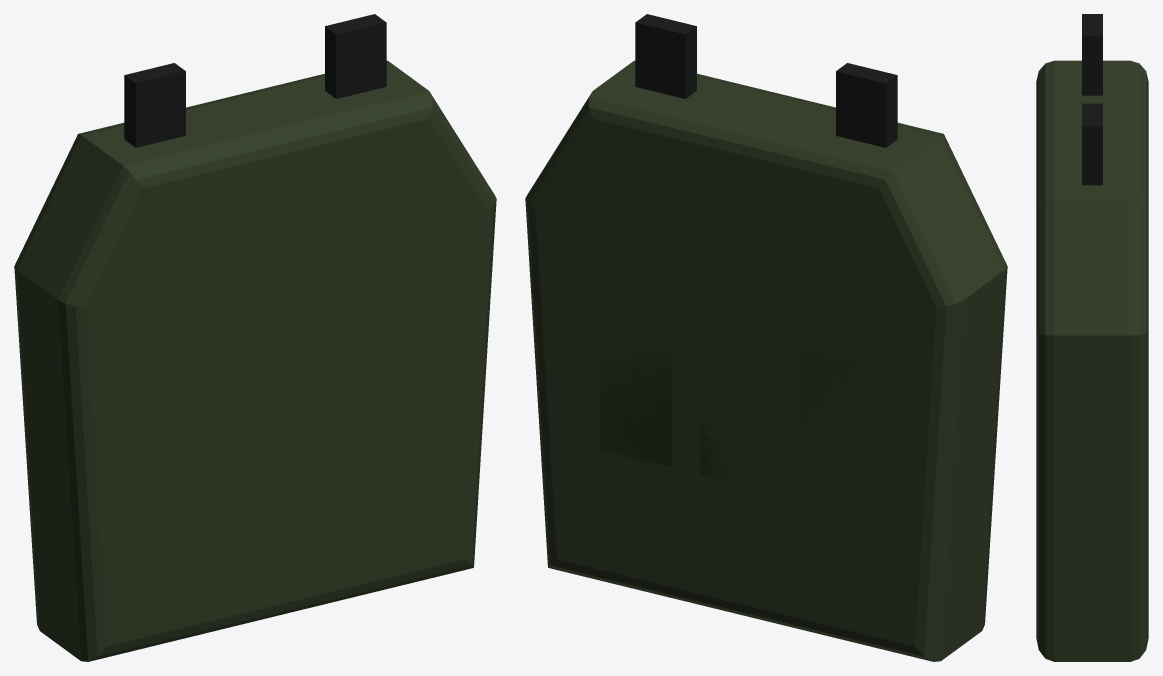
File: armor_plate.glb
3 renders of one model, left to right at view 1: azimuth 30°, elevation 25°; view 2: azimuth 150°, elevation 25°; view 3: azimuth 270°, elevation 25°, orthographic. The views are drawn at different scales.
Bounding box in the file's own units: 0.3044 × 0.367 × 0.074.
